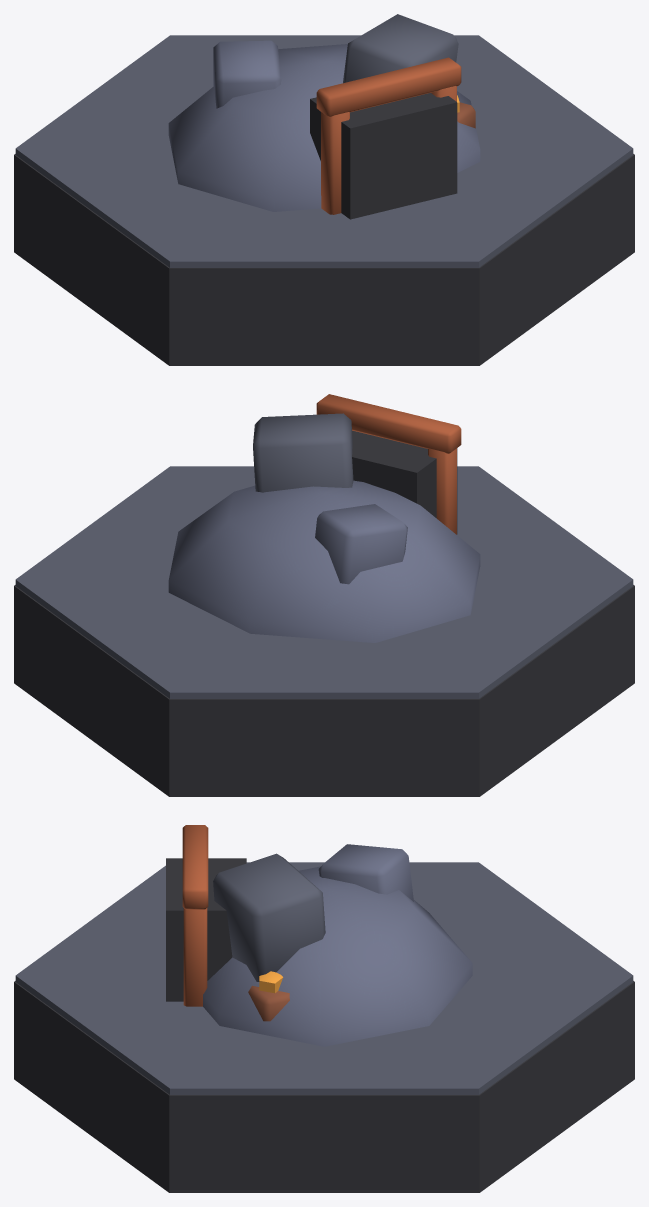
File: building-mine.glb
The picture shows the model from 3 angles, top to bottom: view 1: azimuth 30°, elevation 25°; view 2: azimuth 150°, elevation 25°; view 3: azimuth 270°, elevation 25°; orthographic projection.
Parts seen in each view (by area): view 1: building_mine; view 2: building_mine; view 3: building_mine.
Part boxes in pixels (<box>): building_mine: <box>14,14,634,365</box>; building_mine: <box>14,394,634,796</box>; building_mine: <box>14,825,634,1192</box>.
Bounding box in the file's own units: 1 × 0.52 × 1.15.
1 material, 1 textured.
